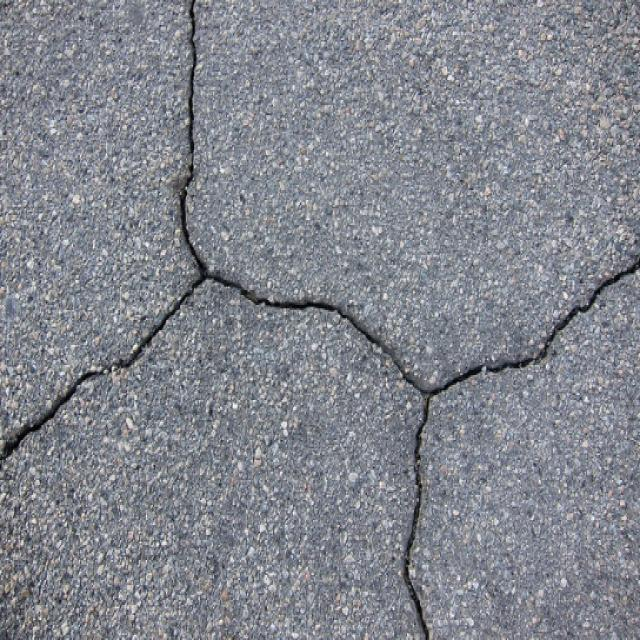Diagonal: (0, 346, 143, 468), (503, 264, 640, 375)
Longitudinal: (378, 474, 453, 640), (164, 0, 211, 192)
Radial: (146, 200, 284, 346), (367, 319, 498, 468)
Transverse: (294, 290, 364, 346)
